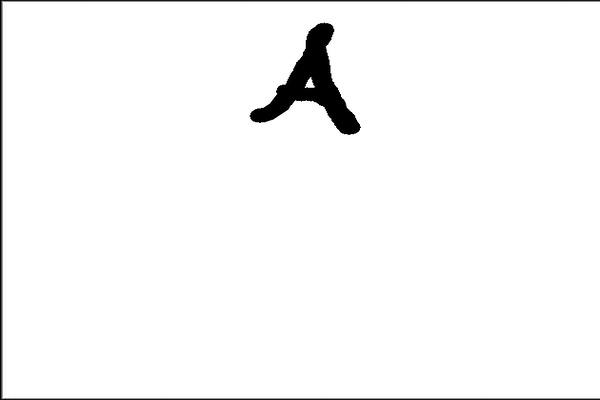A: (240, 17, 364, 145)
